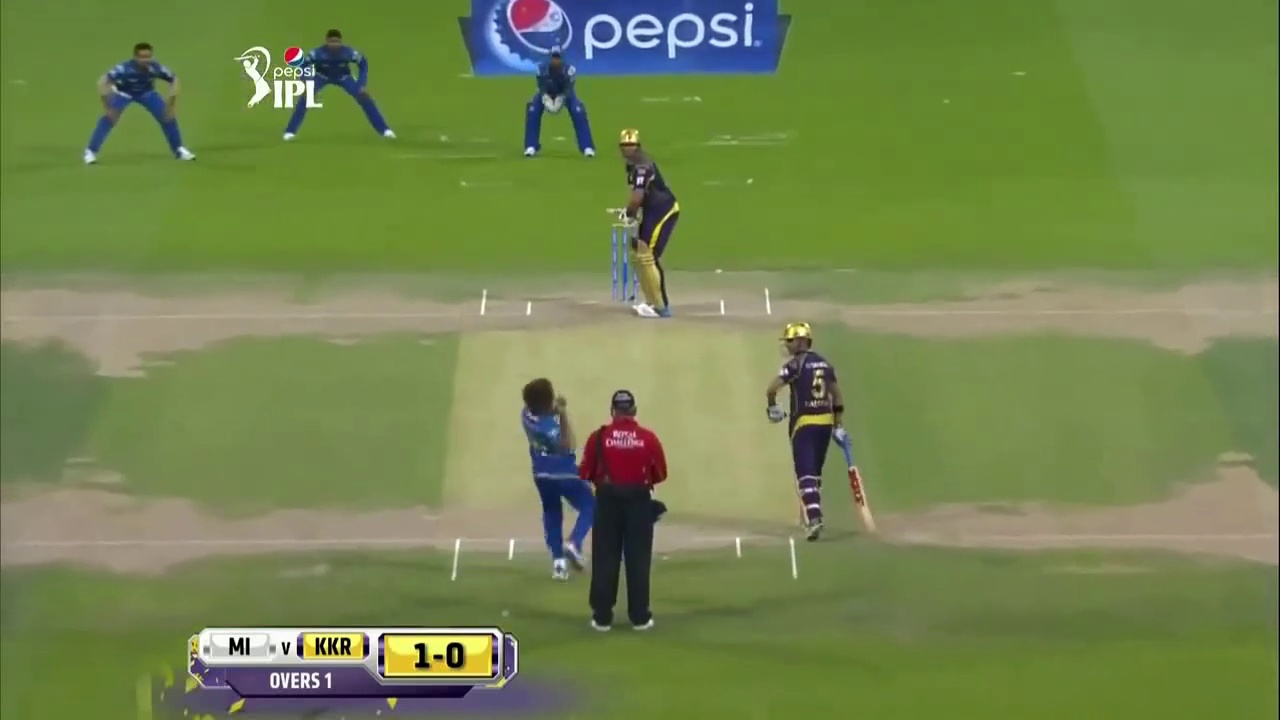bat: (843, 442, 878, 536), (605, 207, 621, 213)
